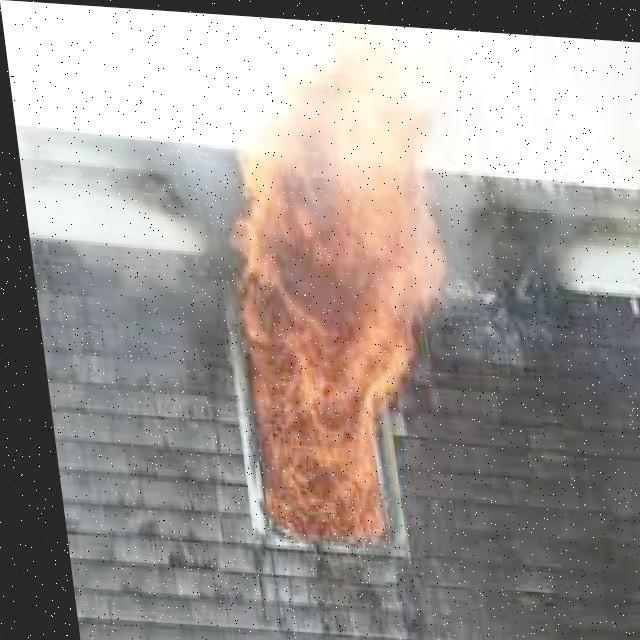Fire: (190, 59, 482, 573)
